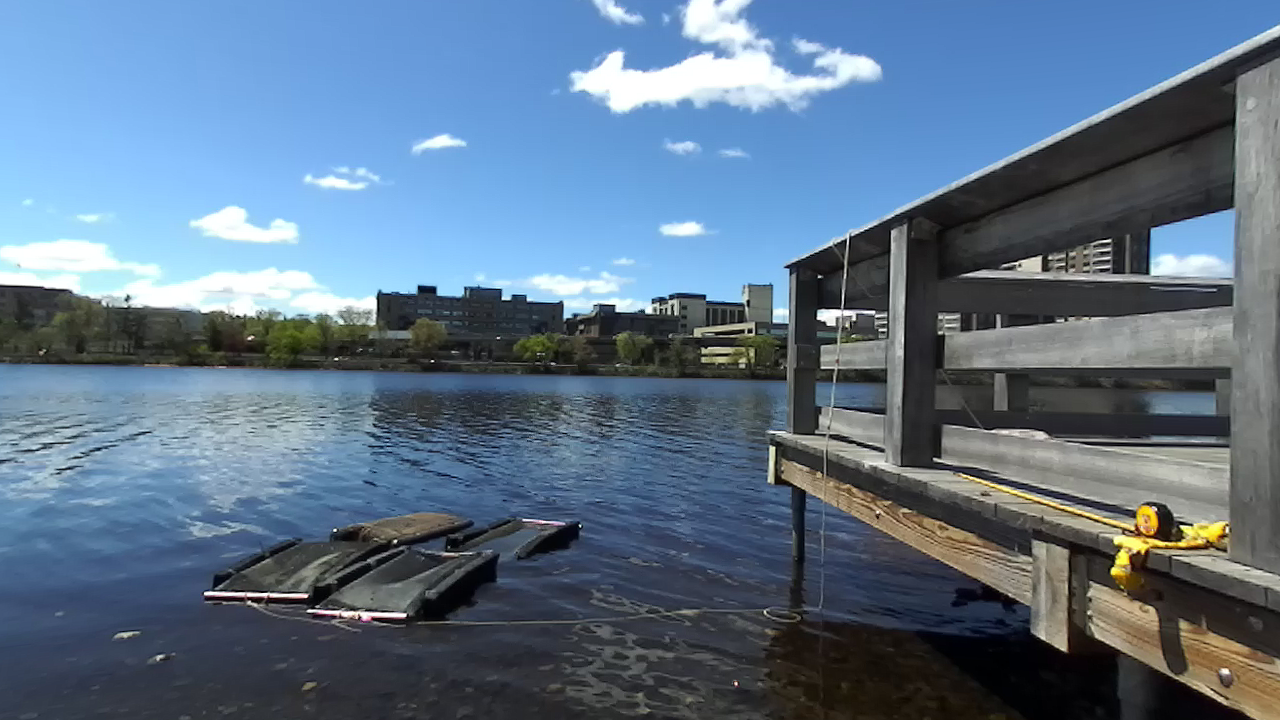bag: (309, 546, 498, 617), (209, 536, 394, 601), (446, 514, 579, 558), (329, 511, 475, 544)
